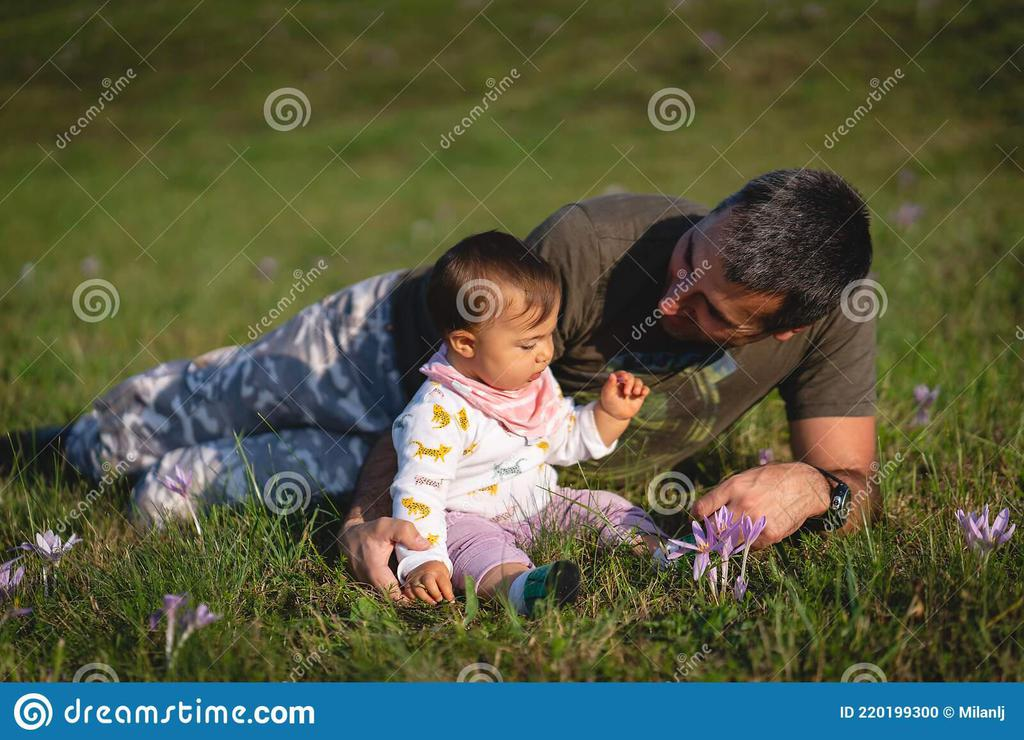child: (367, 228, 680, 628)
